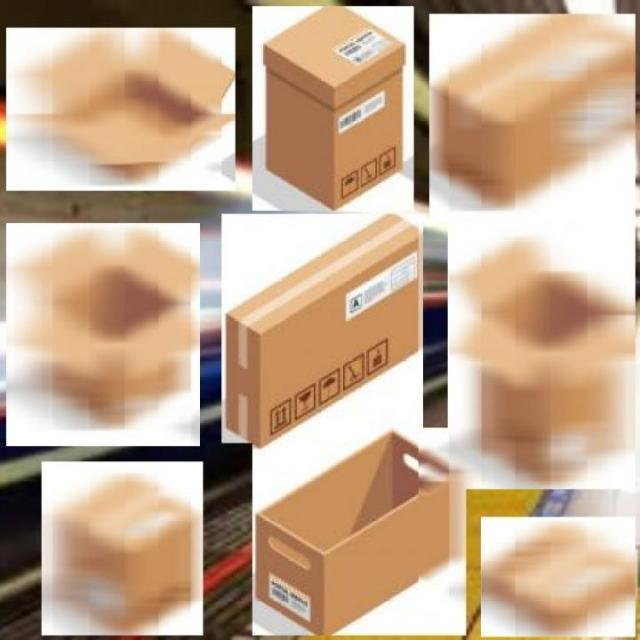box: (445, 216, 639, 494), (218, 210, 428, 449), (249, 426, 471, 640), (5, 219, 204, 452), (426, 10, 640, 226), (2, 27, 241, 194), (250, 3, 418, 216), (40, 460, 206, 640), (478, 516, 640, 640)
